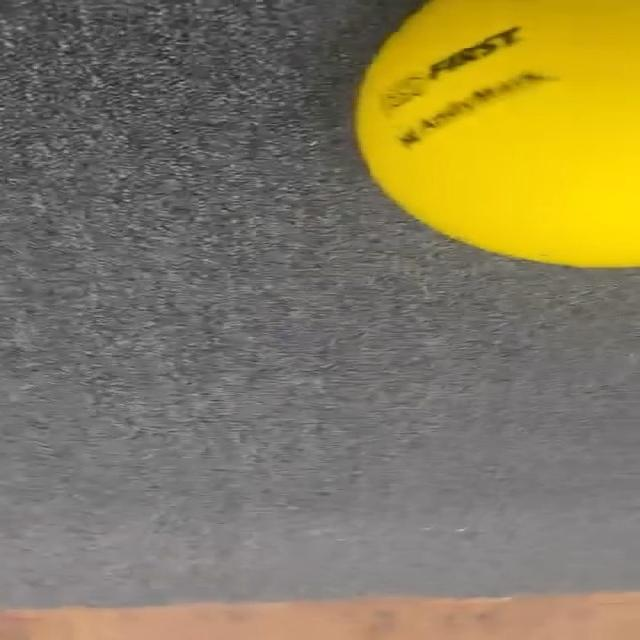Fuels: (357, 0, 638, 267)
